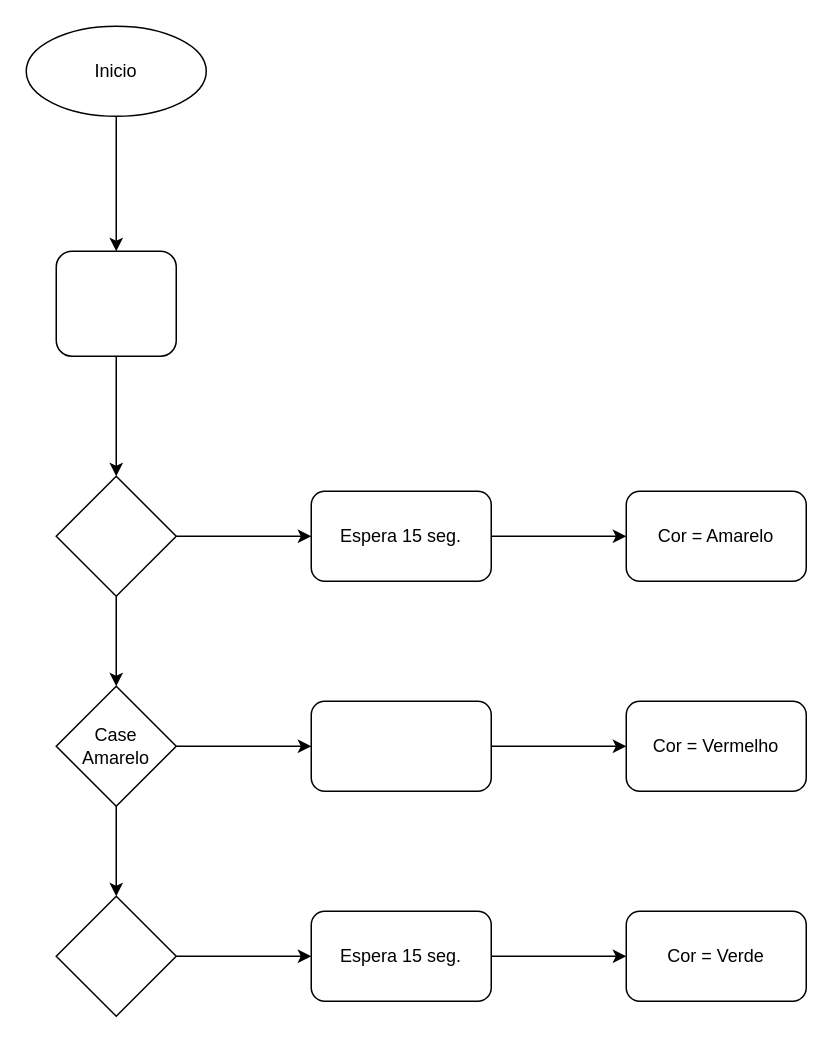
Some shapes in this 833 by 1043 pixel diagram are drawn without their labels. Here are the shapes that lost their labels. From the top down, the box of each, then its label:
(55, 250, 176, 356): Switch cor
(55, 475, 176, 596): Case verde
(310, 700, 491, 791): Espera 3 seg.
(55, 895, 176, 1016): Case vermelho
